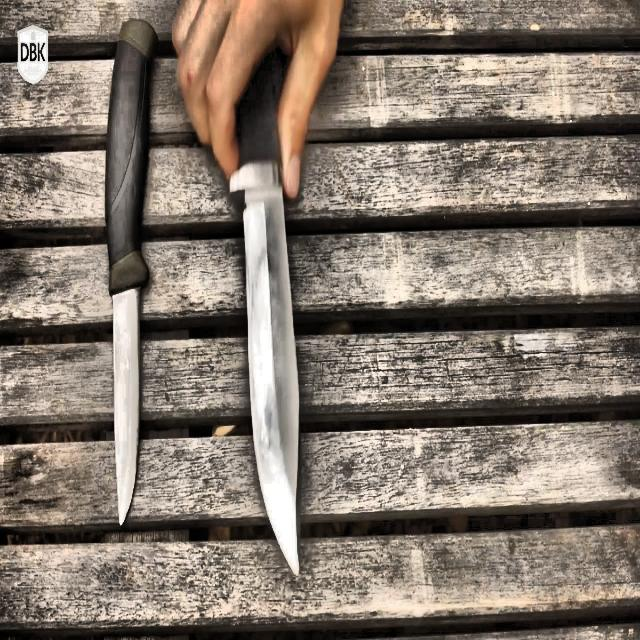knife: (228, 40, 301, 572), (108, 23, 157, 526)
